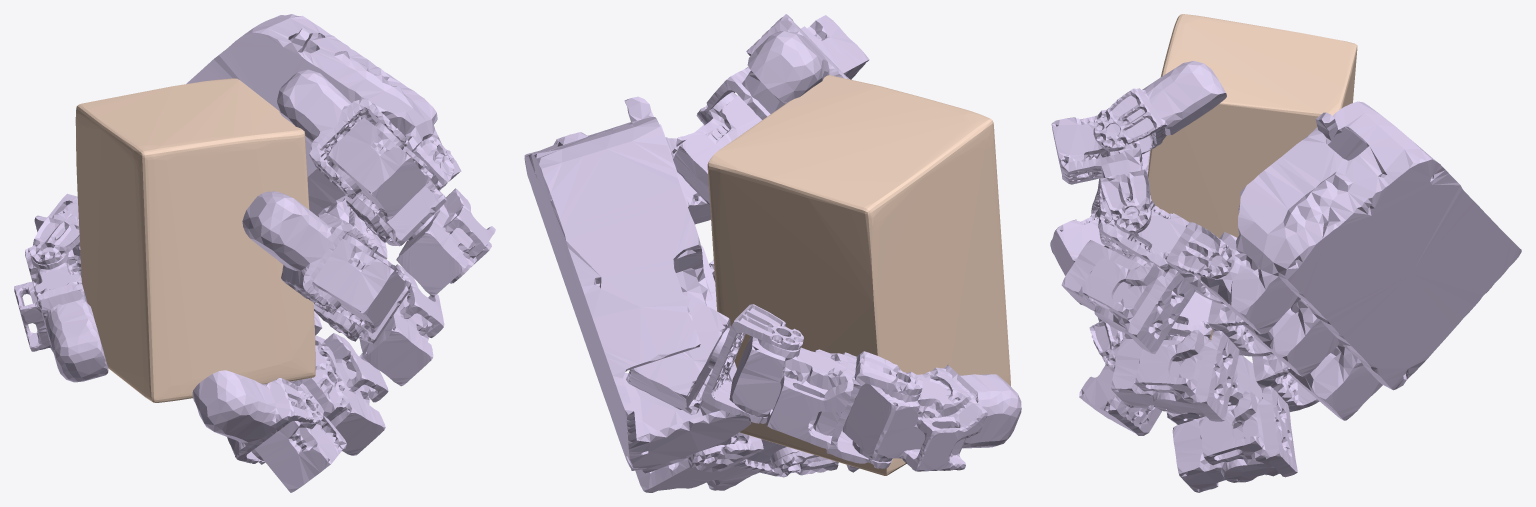
The picture shows the model from 3 angles, left to right: view 1: azimuth 30°, elevation 25°; view 2: azimuth 150°, elevation 25°; view 3: azimuth 270°, elevation 25°; orthographic projection. The views are drawn at different scales.
Parts seen in each view (by area): view 1: LEAP_hand, world; view 2: LEAP_hand, world; view 3: LEAP_hand, world.
Part boxes in pixels (box(x1,y1,x2,y2)): LEAP_hand: box(14, 14, 495, 492); world: box(75, 78, 315, 402); LEAP_hand: box(524, 14, 1021, 492); world: box(707, 75, 1010, 475); LEAP_hand: box(1050, 61, 1521, 492); world: box(1147, 14, 1357, 340).
Size of the model in its own units: 0.2007 by 0.187 by 0.1968.
